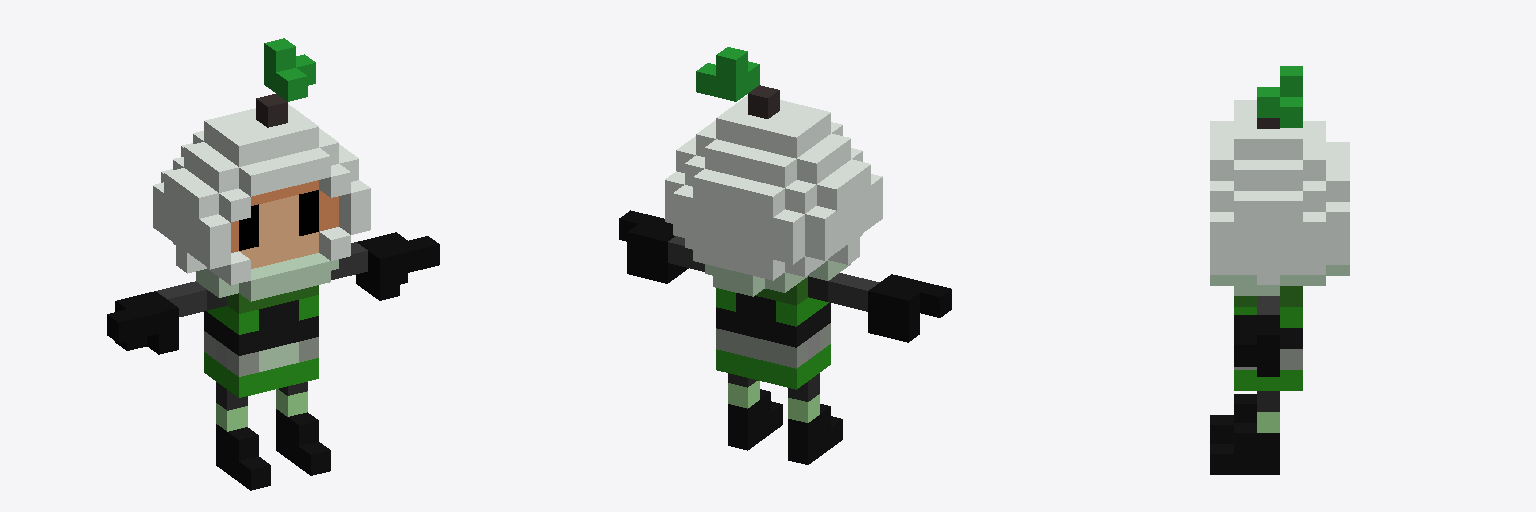
3 views of the same model, side by side, from view 1: azimuth 30°, elevation 25°; view 2: azimuth 150°, elevation 25°; view 3: azimuth 270°, elevation 25° (orthographic).
Size of the model in its own units: 16 by 19 by 6.
1 materials, 1 textured.